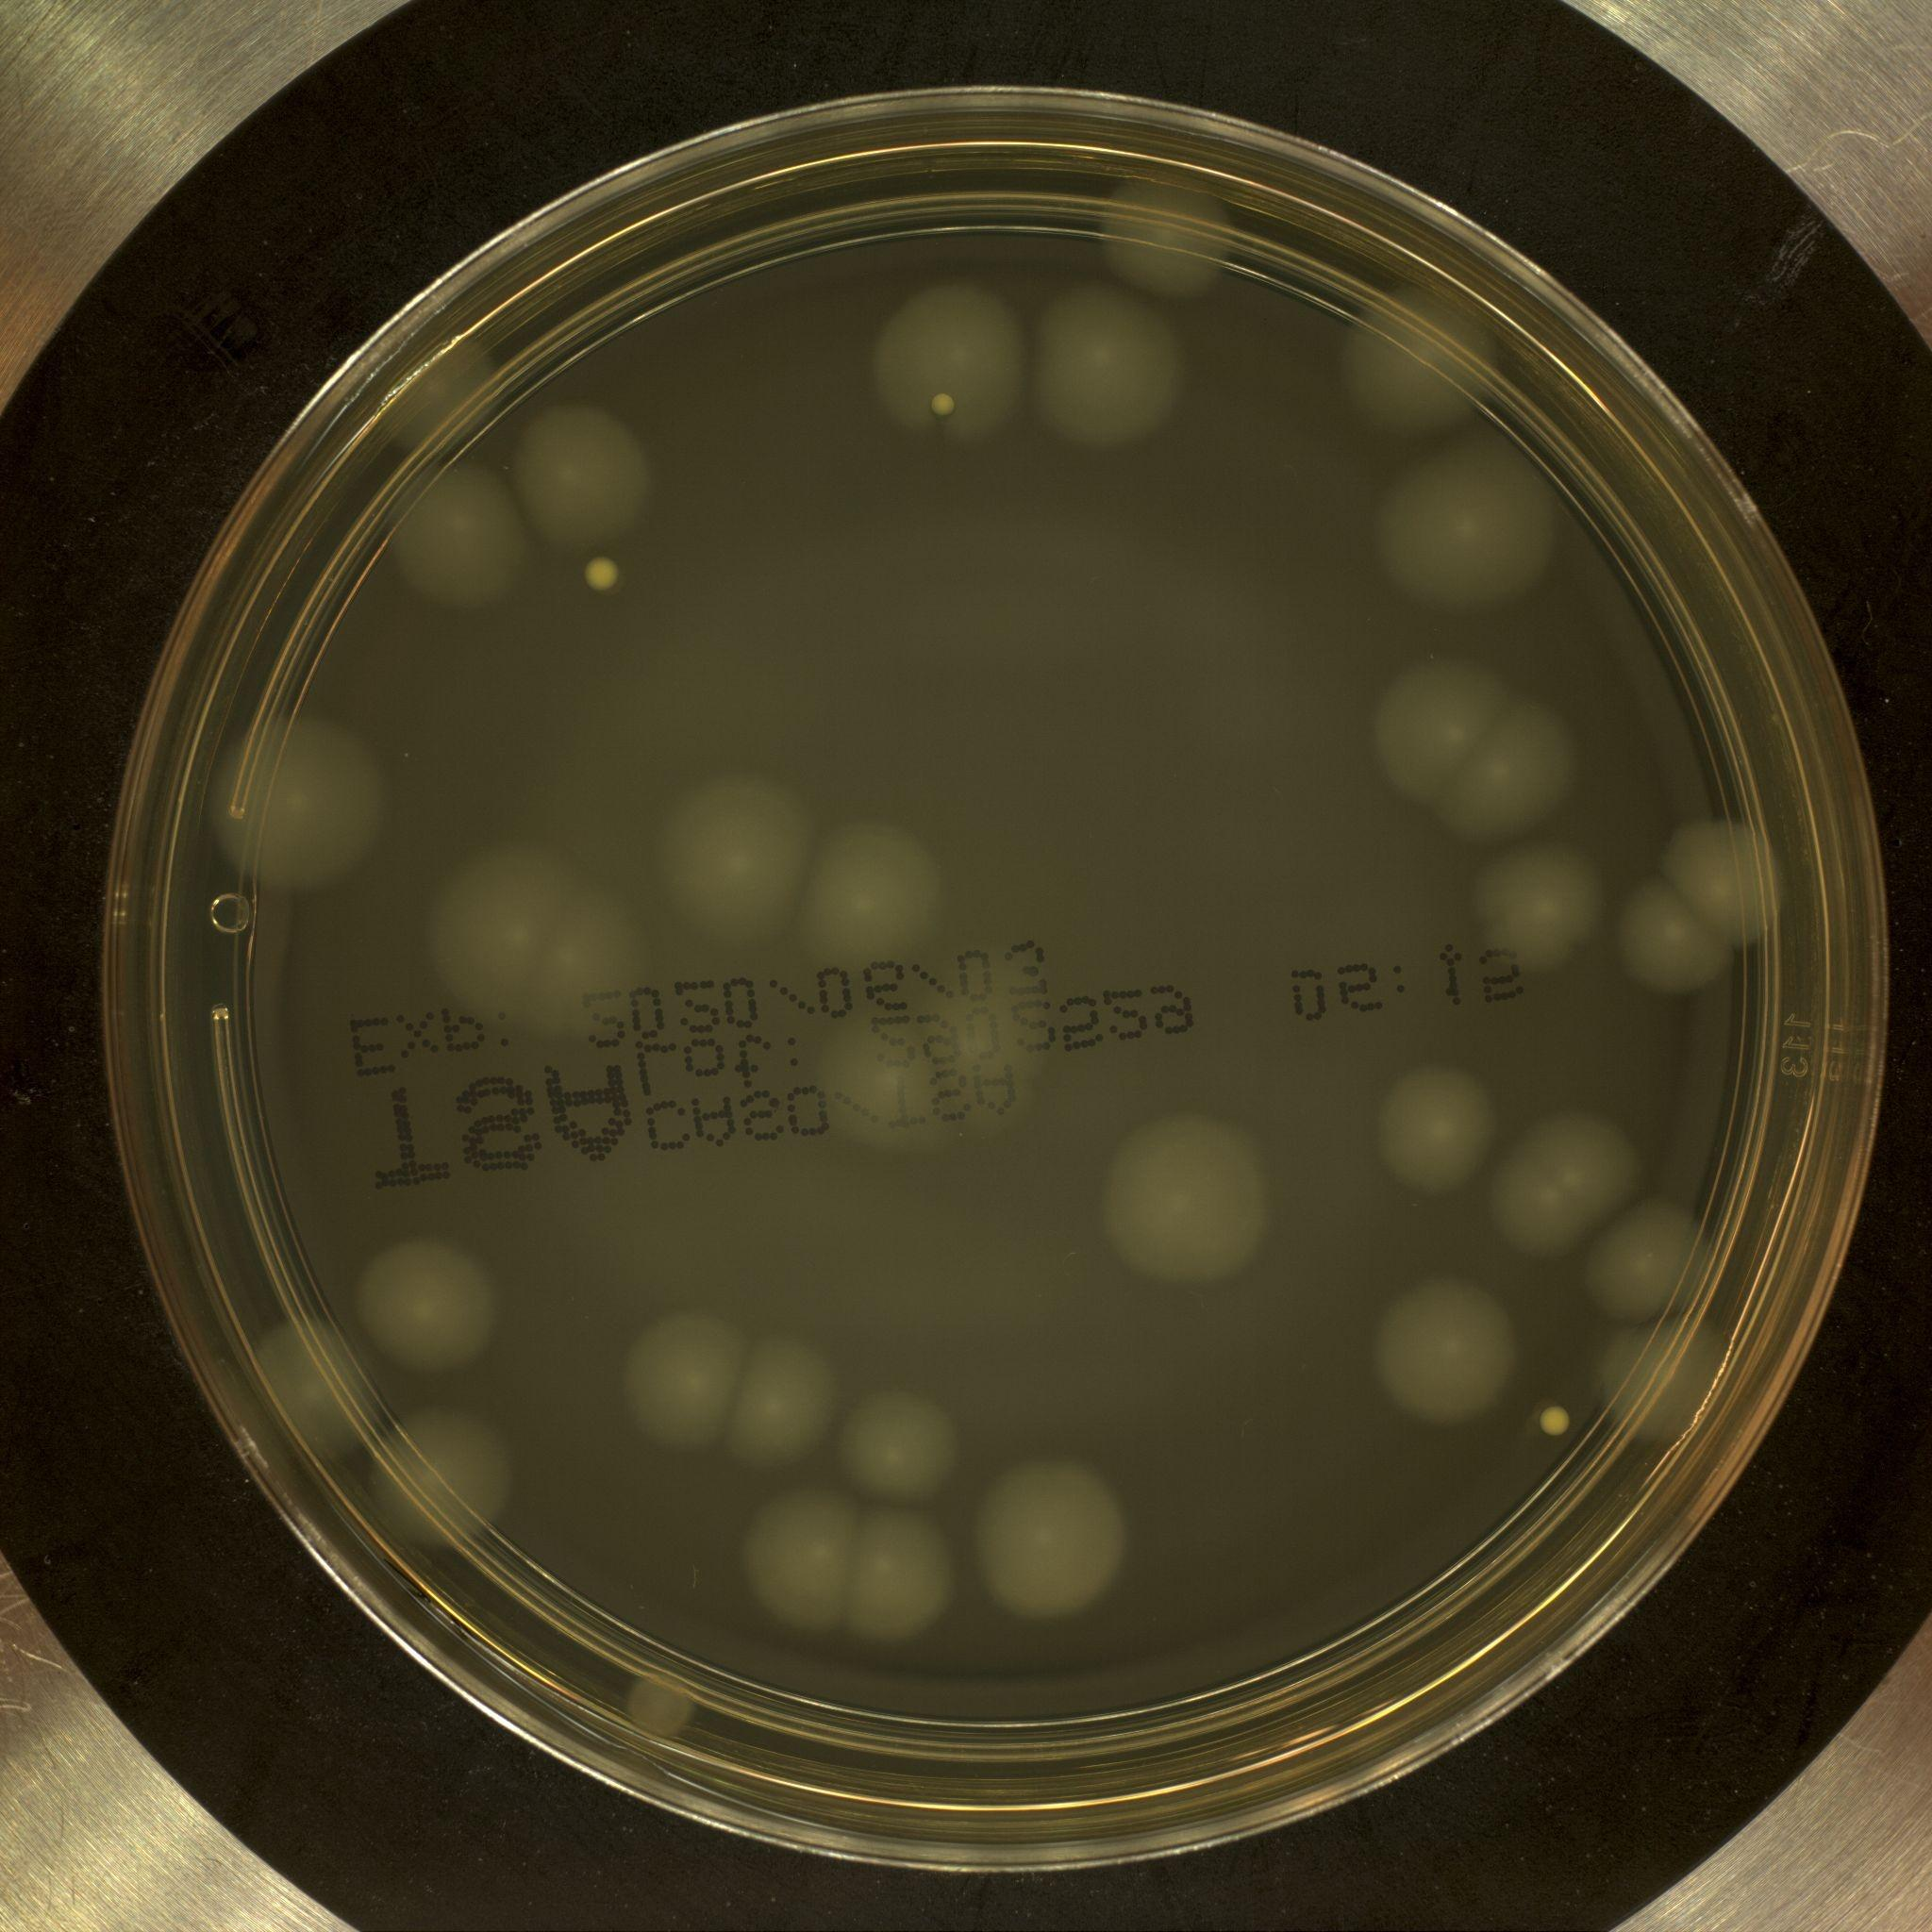e. coli: (442, 847, 644, 1042), (1385, 437, 1560, 617), (211, 718, 387, 886), (1104, 1113, 1269, 1276), (658, 771, 812, 945), (1033, 288, 1189, 458), (870, 285, 1023, 448), (1341, 280, 1495, 435), (973, 1460, 1123, 1615), (837, 1010, 978, 1175), (1495, 1108, 1645, 1249), (391, 467, 533, 607), (517, 407, 653, 552), (916, 978, 1047, 1127), (1373, 1272, 1509, 1414), (731, 1486, 865, 1629), (373, 1408, 511, 1543), (1440, 709, 1589, 833), (1601, 1315, 1741, 1444), (1476, 837, 1605, 977), (1102, 173, 1246, 297), (810, 826, 936, 962), (1654, 812, 1783, 943), (1364, 1070, 1491, 1196), (253, 1318, 373, 1451), (1382, 662, 1502, 794), (846, 1499, 955, 1637), (356, 1246, 492, 1355), (623, 1318, 732, 1454), (373, 333, 499, 451), (1587, 1201, 1714, 1316), (731, 1346, 844, 1468), (833, 1394, 959, 1504), (1621, 883, 1729, 994)
